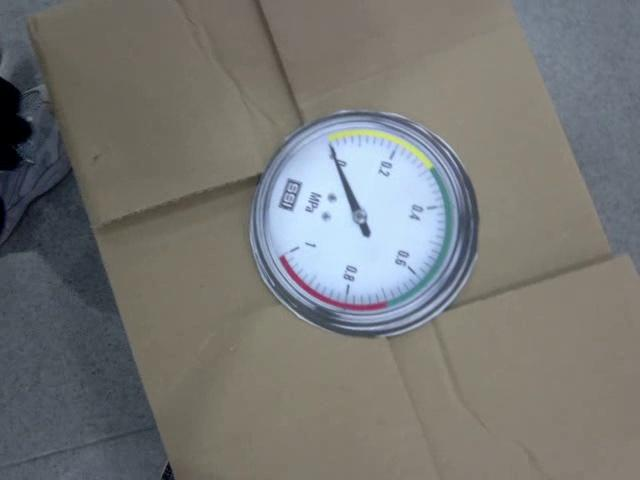Dashboard: (252, 110, 480, 337)
ssi: (278, 178, 303, 211)
